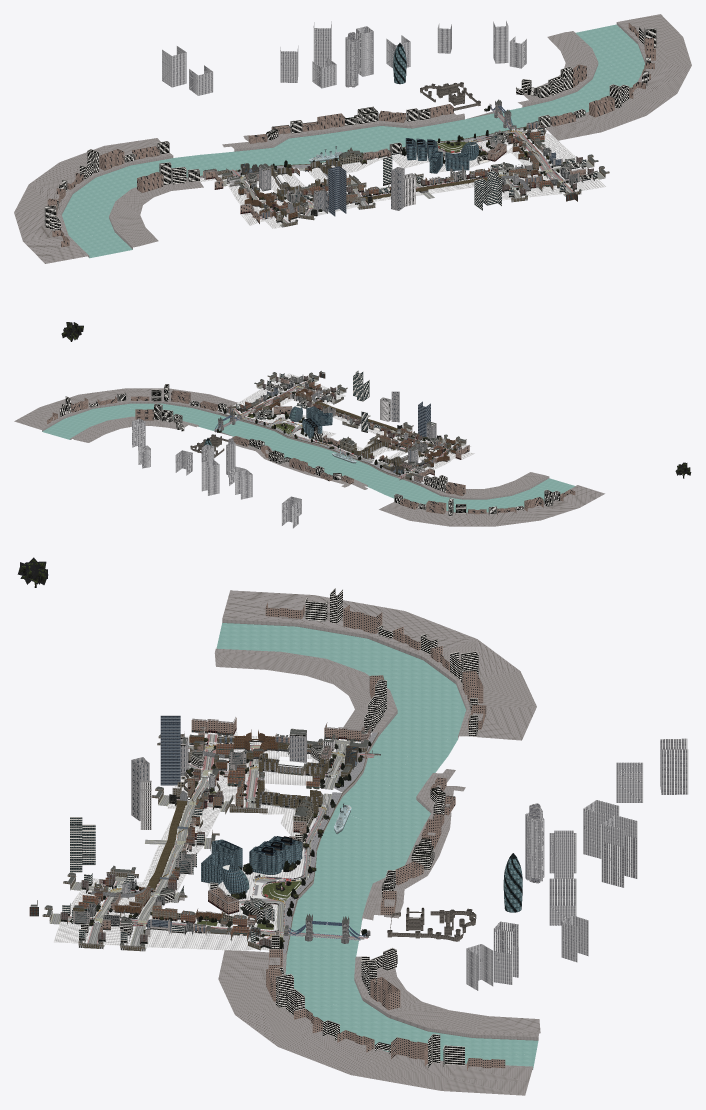
The model's file is nfs_shift_psp_-_london_short.glb.
3 views of the same model, one above another, from view 1: azimuth 30°, elevation 25°; view 2: azimuth 150°, elevation 25°; view 3: azimuth 270°, elevation 25° (orthographic). The views are drawn at different scales.
Visible parts, largest first — view 1: backdrop_grp_000_mdl_004_sub_000, backdrop_grp_005_mdl_015_sub_001, backdrop_grp_005_mdl_017_sub_001, backdrop_grp_005_mdl_009_sub_000, backdrop_grp_005_mdl_016_sub_001, backdrop_grp_002_mdl_001_sub_001, backdrop_grp_005_mdl_006_sub_000, backdrop_grp_005_mdl_011_sub_001, backdrop_grp_005_mdl_010_sub_000, backdrop_grp_000_mdl_001_sub_000, backdrop_grp_005_mdl_012_sub_000, backdrop_grp_005_mdl_001_sub_001 (+32 smaller); view 2: backdrop_grp_005_mdl_015_sub_001, backdrop_grp_005_mdl_017_sub_001, backdrop_grp_005_mdl_009_sub_000, backdrop_grp_000_mdl_004_sub_000, backdrop_grp_005_mdl_016_sub_001, backdrop_grp_000_mdl_003_sub_000, backdrop_grp_005_mdl_012_sub_000, backdrop_grp_002_mdl_001_sub_001, backdrop_grp_005_mdl_010_sub_000, backdrop_grp_005_mdl_013_sub_000, backdrop_grp_005_mdl_006_sub_000, backdrop_grp_005_mdl_008_sub_000 (+33 smaller); view 3: backdrop_grp_005_mdl_015_sub_001, backdrop_grp_005_mdl_017_sub_001, backdrop_grp_000_mdl_004_sub_000, backdrop_grp_005_mdl_012_sub_000, backdrop_grp_005_mdl_016_sub_001, backdrop_grp_002_mdl_001_sub_001, backdrop_grp_005_mdl_001_sub_001, backdrop_grp_005_mdl_010_sub_000, backdrop_grp_005_mdl_006_sub_000, backdrop_grp_005_mdl_011_sub_001, backdrop_grp_005_mdl_012_sub_001, backdrop_grp_005_mdl_009_sub_000 (+35 smaller).
Part boxes in pixels (box(x1,y1,x2,y2)): backdrop_grp_000_mdl_004_sub_000: box(280, 26, 410, 88); backdrop_grp_005_mdl_015_sub_001: box(311, 126, 422, 162); backdrop_grp_005_mdl_017_sub_001: box(211, 136, 323, 171); backdrop_grp_005_mdl_009_sub_000: box(14, 162, 79, 240); backdrop_grp_005_mdl_016_sub_001: box(393, 113, 509, 141); backdrop_grp_002_mdl_001_sub_001: box(405, 138, 478, 173); backdrop_grp_005_mdl_006_sub_000: box(546, 106, 645, 140); backdrop_grp_005_mdl_011_sub_001: box(62, 177, 126, 218); backdrop_grp_005_mdl_010_sub_000: box(23, 213, 89, 263); backdrop_grp_000_mdl_001_sub_000: box(162, 46, 213, 95); backdrop_grp_005_mdl_012_sub_000: box(60, 138, 173, 190); backdrop_grp_005_mdl_001_sub_001: box(502, 91, 594, 128); backdrop_grp_005_mdl_015_sub_001: box(271, 438, 357, 468); backdrop_grp_005_mdl_017_sub_001: box(324, 461, 407, 490); backdrop_grp_005_mdl_009_sub_000: box(450, 508, 578, 526); backdrop_grp_000_mdl_004_sub_000: box(182, 438, 246, 494); backdrop_grp_005_mdl_016_sub_001: box(221, 420, 289, 449); backdrop_grp_000_mdl_003_sub_000: box(201, 459, 252, 499); backdrop_grp_005_mdl_012_sub_000: box(379, 502, 467, 526); backdrop_grp_002_mdl_001_sub_001: box(289, 405, 332, 438); backdrop_grp_005_mdl_010_sub_000: box(528, 485, 604, 508); backdrop_grp_005_mdl_013_sub_000: box(488, 472, 549, 495); backdrop_grp_005_mdl_006_sub_000: box(162, 388, 237, 414); backdrop_grp_005_mdl_008_sub_000: box(93, 416, 188, 434); backdrop_grp_005_mdl_015_sub_001: box(313, 809, 422, 885); backdrop_grp_005_mdl_017_sub_001: box(335, 752, 439, 828); backdrop_grp_000_mdl_004_sub_000: box(525, 803, 624, 887); backdrop_grp_005_mdl_012_sub_000: box(429, 657, 536, 740); backdrop_grp_005_mdl_016_sub_001: box(290, 870, 371, 941); backdrop_grp_002_mdl_001_sub_001: box(201, 836, 302, 893); backdrop_grp_005_mdl_001_sub_001: box(286, 938, 362, 1005); backdrop_grp_005_mdl_010_sub_000: box(222, 590, 370, 638); backdrop_grp_005_mdl_006_sub_000: box(218, 950, 286, 1014); backdrop_grp_005_mdl_011_sub_001: box(330, 638, 455, 689); backdrop_grp_005_mdl_012_sub_001: box(379, 684, 465, 739); backdrop_grp_005_mdl_009_sub_000: box(314, 595, 519, 677).
Size of the model in its own units: 45.57 by 3.98 by 23.85.
91 materials, 90 textured.
